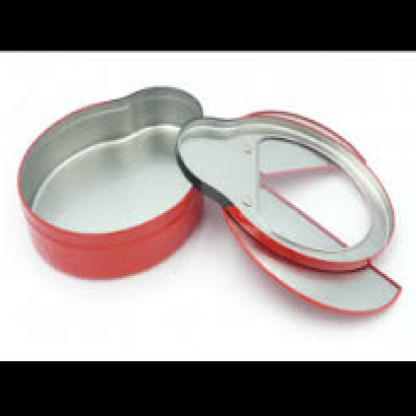METAL: (173, 105, 394, 272), (17, 83, 201, 280), (220, 201, 399, 314)
